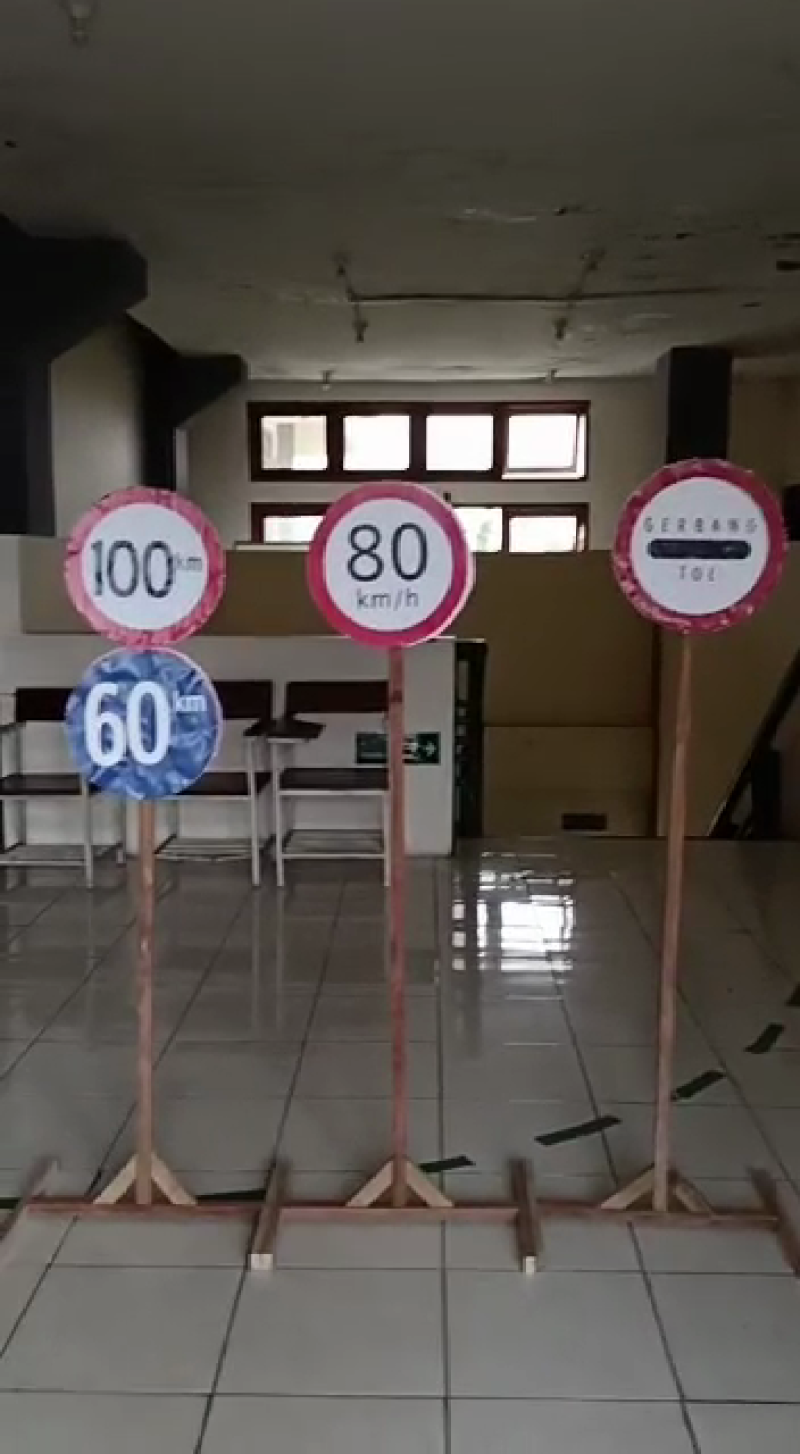batas maksimal 100kmperjam minimal 60kmperjam: (59, 481, 226, 827)
batas maksimal 80kmperjam: (305, 483, 483, 657)
gerbang tol: (607, 459, 785, 646)
